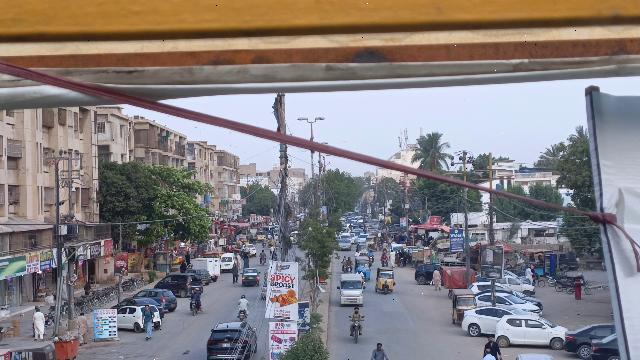Bike: (350, 319, 365, 343), (186, 299, 202, 315), (236, 309, 248, 320)
Car: (493, 312, 567, 349), (203, 320, 261, 360), (460, 303, 513, 336), (564, 322, 612, 358), (115, 305, 160, 332), (153, 273, 204, 295), (136, 288, 179, 311), (585, 331, 618, 359), (240, 267, 260, 288)
Person: (140, 304, 156, 340), (76, 310, 90, 347), (480, 335, 502, 358), (32, 306, 46, 341), (369, 341, 388, 359), (431, 266, 442, 293), (235, 293, 250, 311), (349, 303, 364, 321), (230, 262, 240, 284), (189, 287, 202, 302), (481, 348, 495, 360)
Rickshaw: (448, 287, 478, 326), (373, 266, 397, 294), (354, 255, 373, 281)
Truck: (188, 257, 222, 281)
Van: (336, 272, 366, 309), (220, 252, 235, 273)
